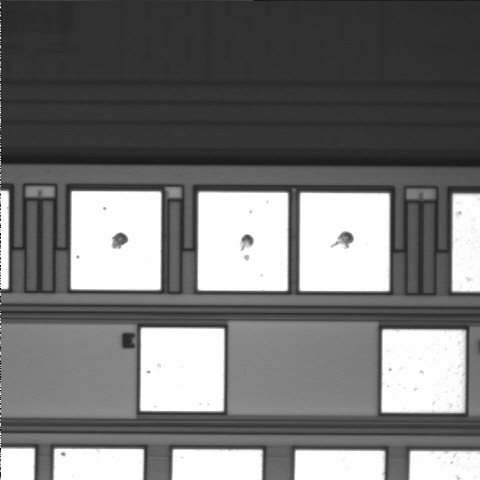pad: (71, 191, 161, 290), (198, 192, 288, 291), (300, 193, 390, 291), (140, 328, 224, 411), (382, 330, 465, 413)
